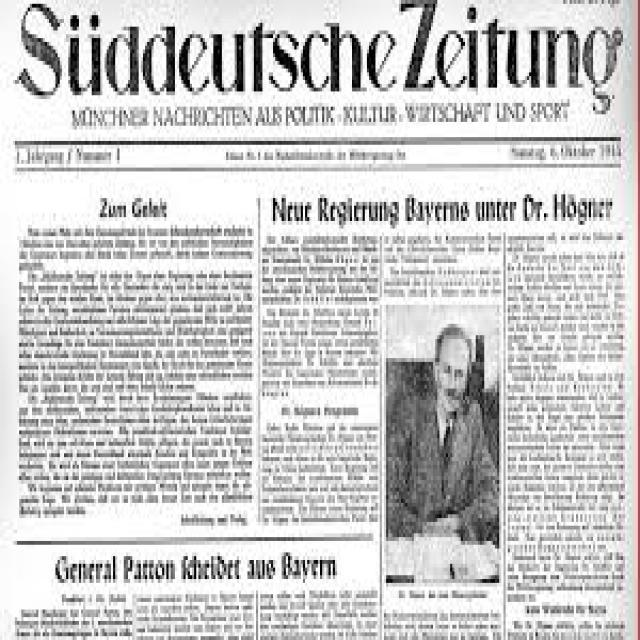Paper: (0, 0, 638, 636)
